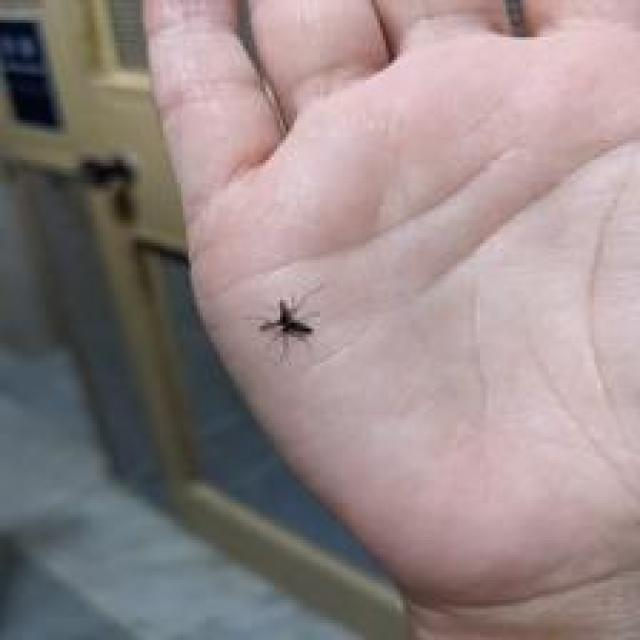Aedes albopictus: (256, 296, 316, 361)
